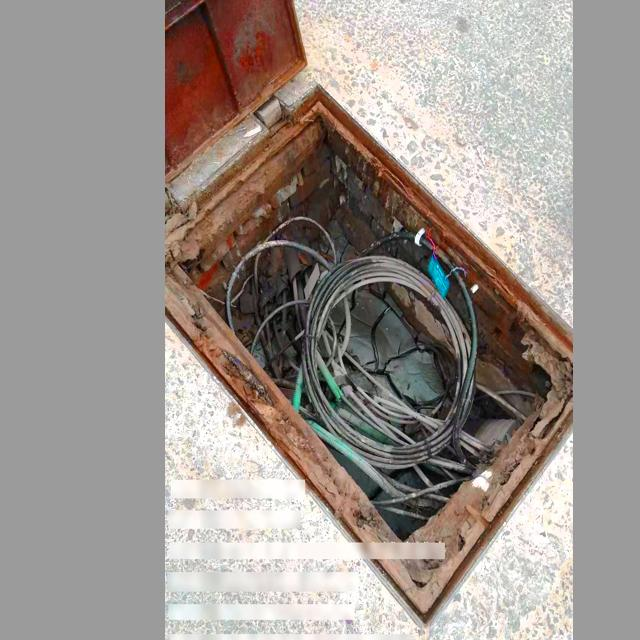uncovered: (166, 3, 573, 622)
